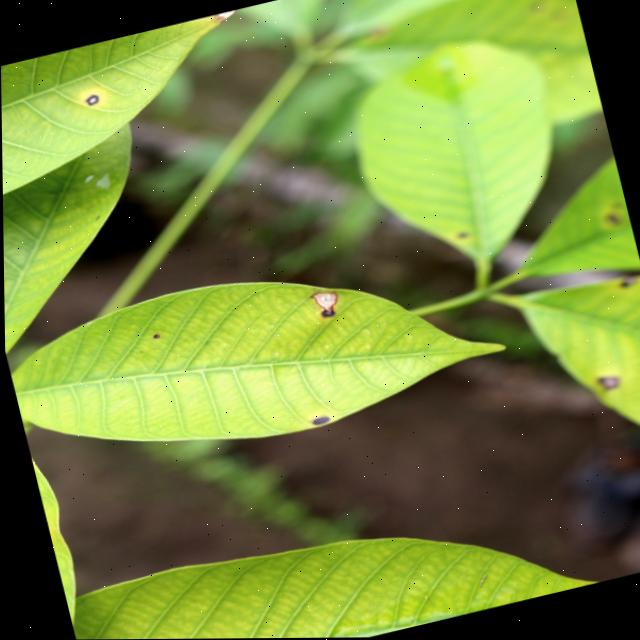Colletotrichum: (84, 93, 99, 107), (310, 416, 328, 426), (319, 308, 334, 319), (151, 334, 158, 339)
Leaf-Blight: (213, 10, 236, 23)
